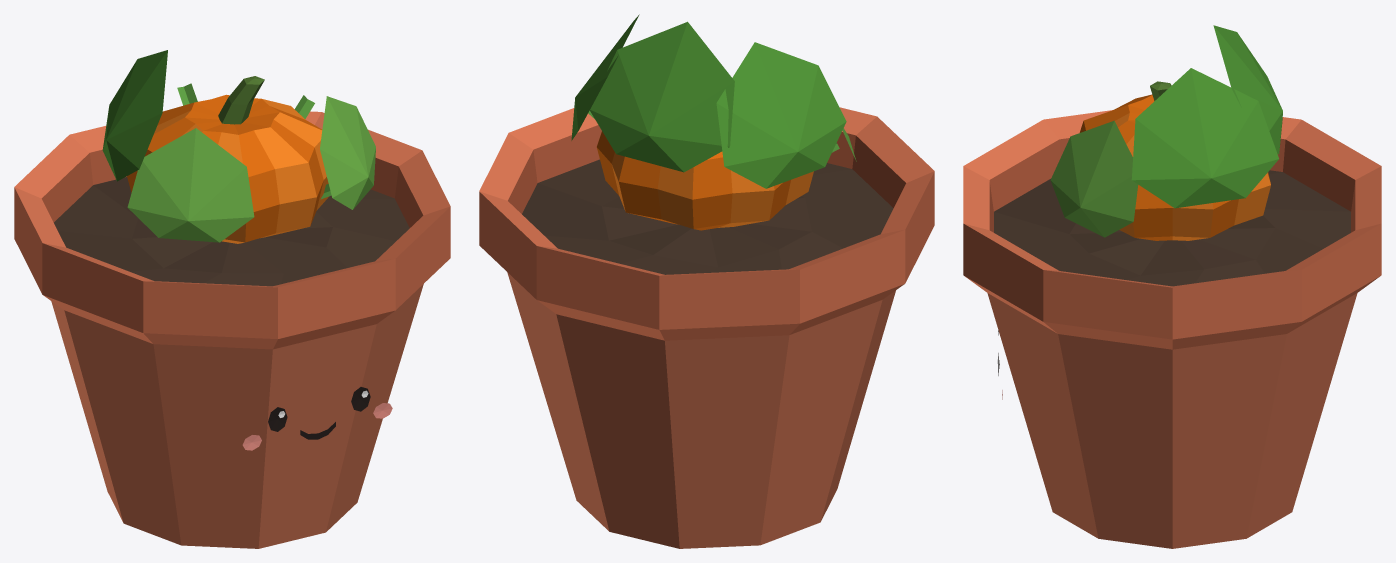
Rendered from pumpkin_4.glb.
3 renders of one model, left to right at view 1: azimuth 30°, elevation 25°; view 2: azimuth 150°, elevation 25°; view 3: azimuth 270°, elevation 25°, orthographic. The views are drawn at different scales.
Parts seen in each view (by area): view 1: Pumpkin_Stage4_Harvest; view 2: Pumpkin_Stage4_Harvest; view 3: Pumpkin_Stage4_Harvest.
Boxes of the visible parts, x1=… form: Pumpkin_Stage4_Harvest: x1=14, y1=50, x2=450, y2=548; Pumpkin_Stage4_Harvest: x1=479, y1=14, x2=934, y2=548; Pumpkin_Stage4_Harvest: x1=963, y1=25, x2=1381, y2=548.
Bounding box in the file's own units: 1.92 × 2.26 × 1.83.
